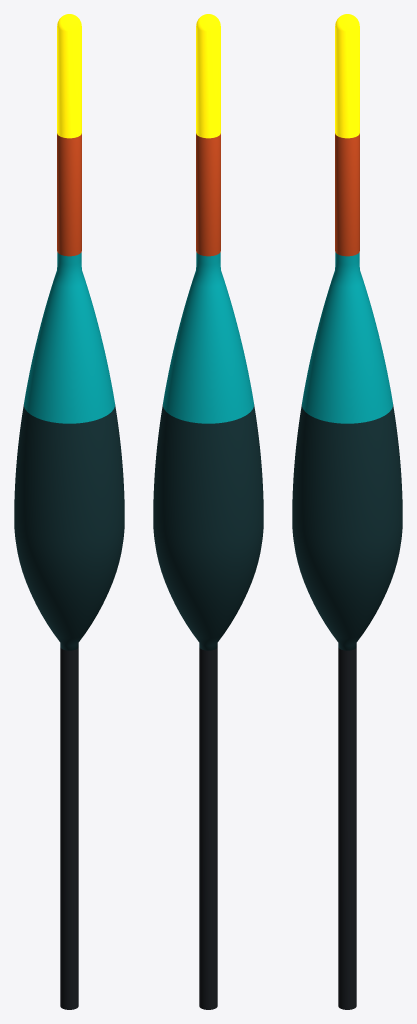
Rendered from signal-9.glb.
The picture shows the model from 3 angles, left to right: view 1: azimuth 30°, elevation 25°; view 2: azimuth 150°, elevation 25°; view 3: azimuth 330°, elevation 25°; orthographic projection.
Parts seen in each view (by area): view 1: signal-9; view 2: signal-9; view 3: signal-9.
Part boxes in pixels (left/top/right/bottom): signal-9: left=14, top=14, right=124, bottom=1009; signal-9: left=153, top=14, right=263, bottom=1009; signal-9: left=292, top=14, right=402, bottom=1009.
Bounding box in the file's own units: 0.017 × 0.168 × 0.017.
